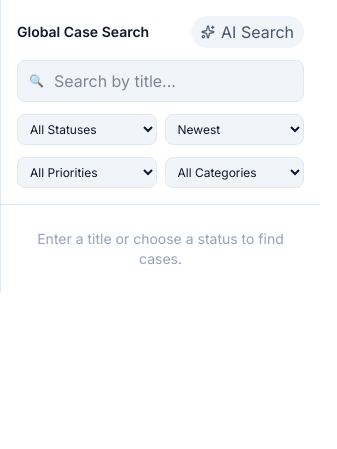
Test case: CaseSearchPanel › displays empty state when no results match
Type "nothing" into the field with placeholder "Search by title..." at (160, 81), box [17,60,304,102]
Wait 400 ms
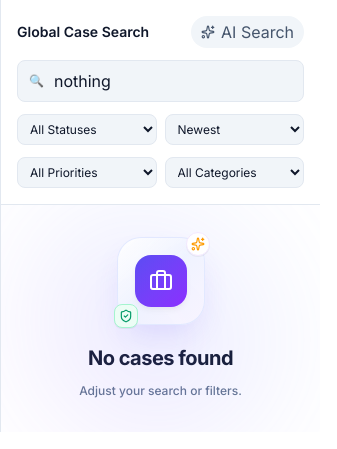
expect the heading "No cases found" is shown: met, box [88,345,233,372]
